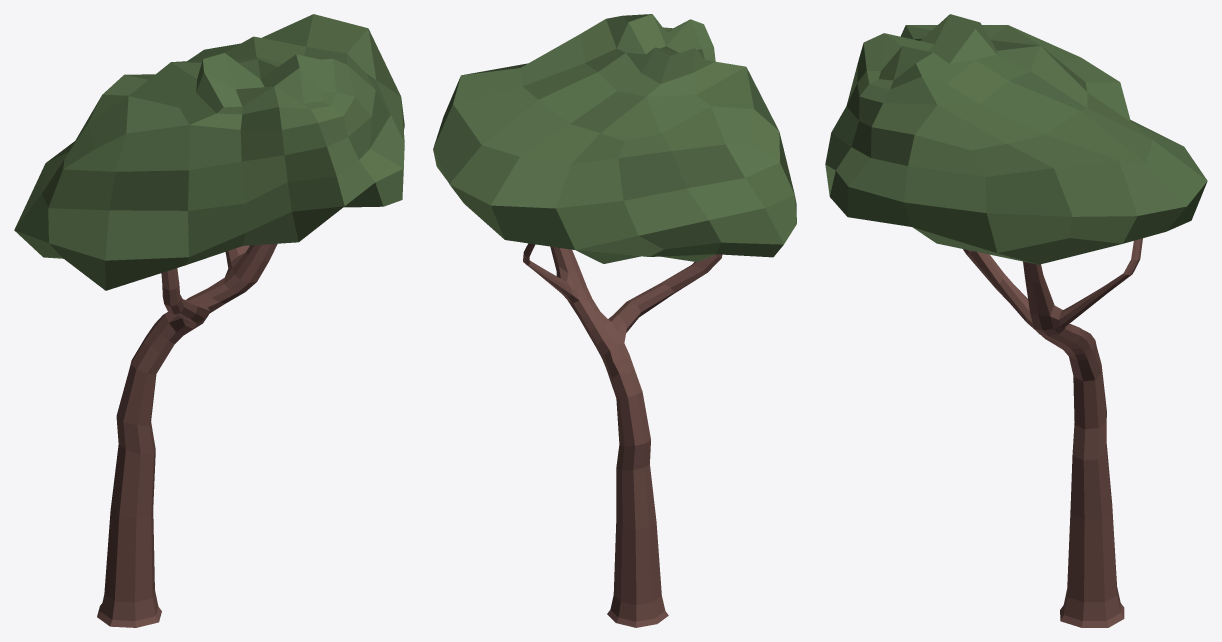
File: orange_harvested.glb
3 views of the same model, side by side, from view 1: azimuth 30°, elevation 25°; view 2: azimuth 150°, elevation 25°; view 3: azimuth 270°, elevation 25° (orthographic). The views are drawn at different scales.
Visible parts, largest first — view 1: Orange_Harvested; view 2: Orange_Harvested; view 3: Orange_Harvested.
Boxes of the visible parts, bbox=[...] form: Orange_Harvested: bbox=[14, 14, 404, 627]; Orange_Harvested: bbox=[433, 14, 796, 627]; Orange_Harvested: bbox=[825, 14, 1207, 627].
Bounding box in the file's own units: 1.8 × 2.76 × 1.58.
